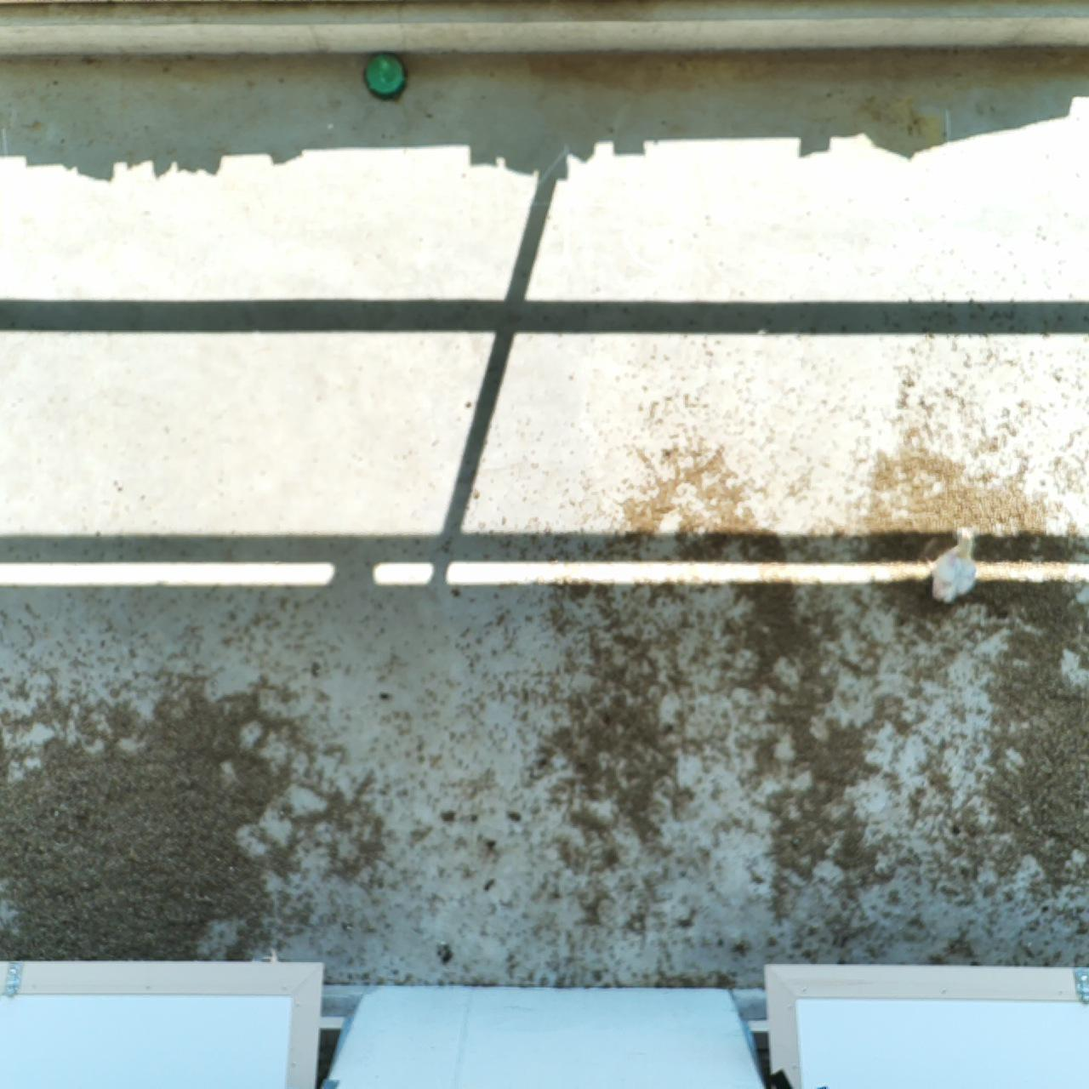chicken: (922, 521, 987, 606)
